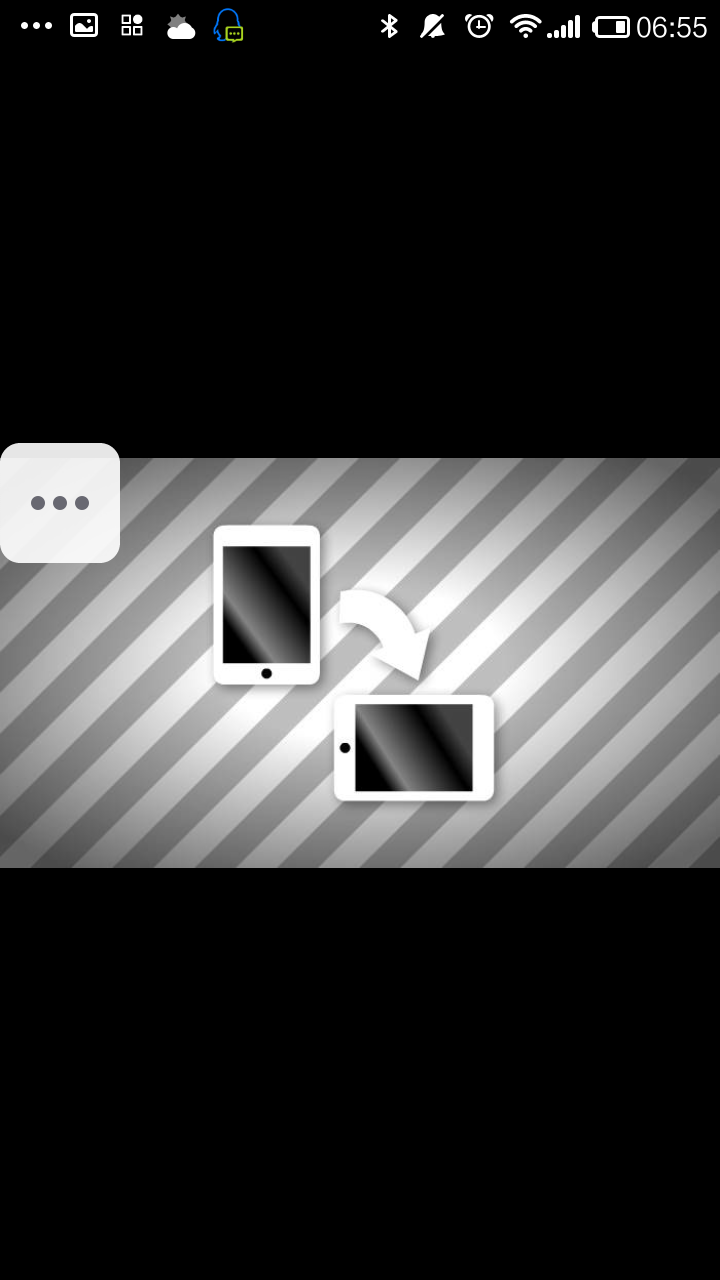imgview: (1, 431, 720, 890)
